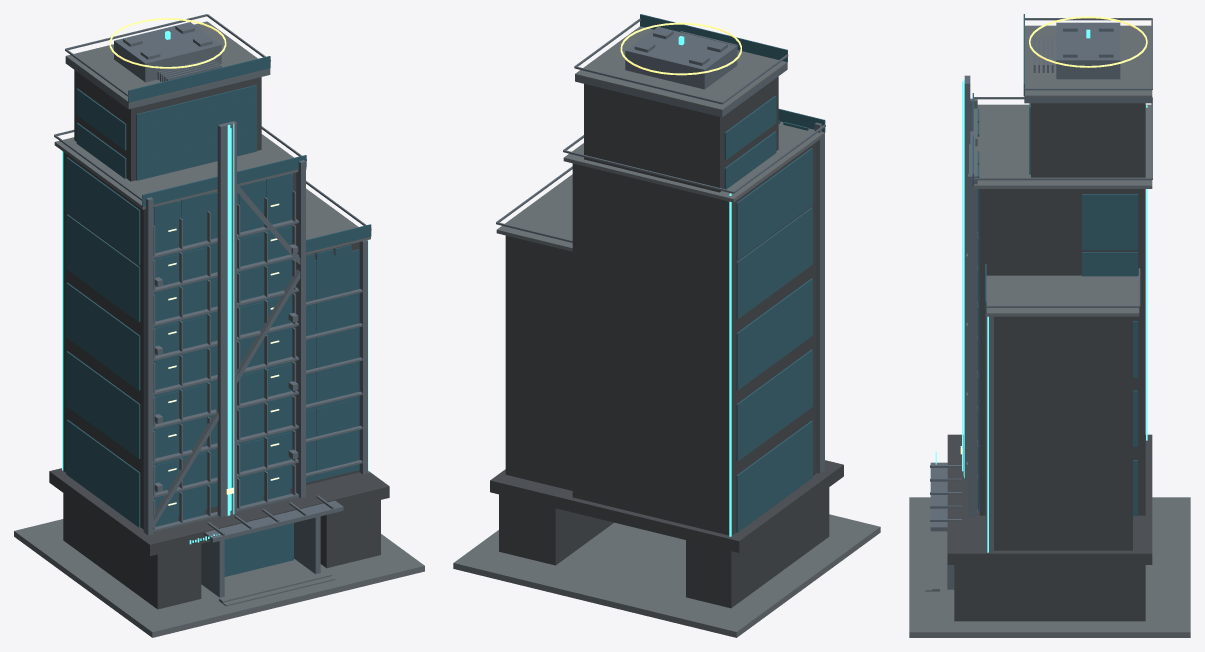
The model's file is trend-block-tower.glb.
3 views of the same model, side by side, from view 1: azimuth 30°, elevation 25°; view 2: azimuth 150°, elevation 25°; view 3: azimuth 270°, elevation 25° (orthographic). The views are drawn at different scales.
Visible parts, largest first — view 1: LOD0_glass, LOD0_metal, LOD0_concrete, LOD0_stone, LOD1_glass, LOD2_glass, FX_blockchain_core, LOD0_channel, FX_trend_king_halo; view 2: LOD0_concrete, LOD0_stone, LOD0_glass, LOD0_metal, LOD0_channel, FX_trend_king_halo; view 3: LOD0_concrete, LOD0_stone, LOD0_metal, LOD0_glass, LOD0_channel, FX_blockchain_core, LOD2_glass, FX_trend_king_halo, LOD1_glass.
Boxes of the visible parts, x1=… form: LOD0_glass: x1=66, y1=56, x2=371, y2=576; LOD0_metal: x1=54, y1=14, x2=371, y2=597; LOD0_concrete: x1=49, y1=70, x2=389, y2=609; LOD0_stone: x1=14, y1=21, x2=424, y2=637; LOD1_glass: x1=153, y1=174, x2=351, y2=526; LOD2_glass: x1=136, y1=85, x2=359, y2=515; FX_blockchain_core: x1=227, y1=128, x2=231, y2=511; LOD0_channel: x1=62, y1=123, x2=368, y2=544; FX_trend_king_halo: x1=109, y1=18, x2=226, y2=68; LOD0_concrete: x1=490, y1=76, x2=843, y2=608; LOD0_stone: x1=453, y1=26, x2=880, y2=637; LOD0_glass: x1=640, y1=14, x2=825, y2=532; LOD0_metal: x1=496, y1=18, x2=825, y2=473; LOD0_channel: x1=729, y1=193, x2=731, y2=536; FX_trend_king_halo: x1=620, y1=22, x2=741, y2=75; LOD0_concrete: x1=947, y1=103, x2=1152, y2=621; LOD0_stone: x1=909, y1=25, x2=1190, y2=637; LOD0_metal: x1=930, y1=18, x2=1152, y2=589; LOD0_glass: x1=972, y1=14, x2=1137, y2=516; LOD0_channel: x1=935, y1=79, x2=1147, y2=552; FX_blockchain_core: x1=962, y1=81, x2=963, y2=471; LOD2_glass: x1=978, y1=103, x2=1030, y2=505; FX_trend_king_halo: x1=1029, y1=16, x2=1147, y2=67; LOD1_glass: x1=977, y1=109, x2=979, y2=511.
Size of what is drawn, in the model's own units: 25 by 45.25 by 22.
